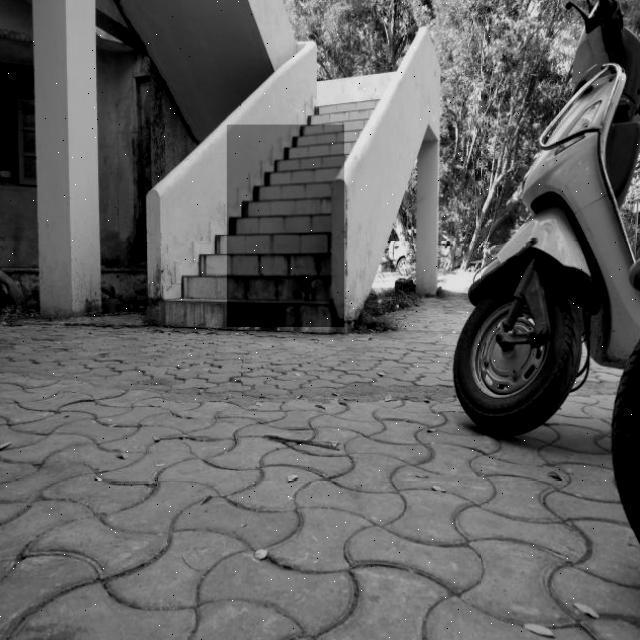stair: (227, 125, 344, 327)
